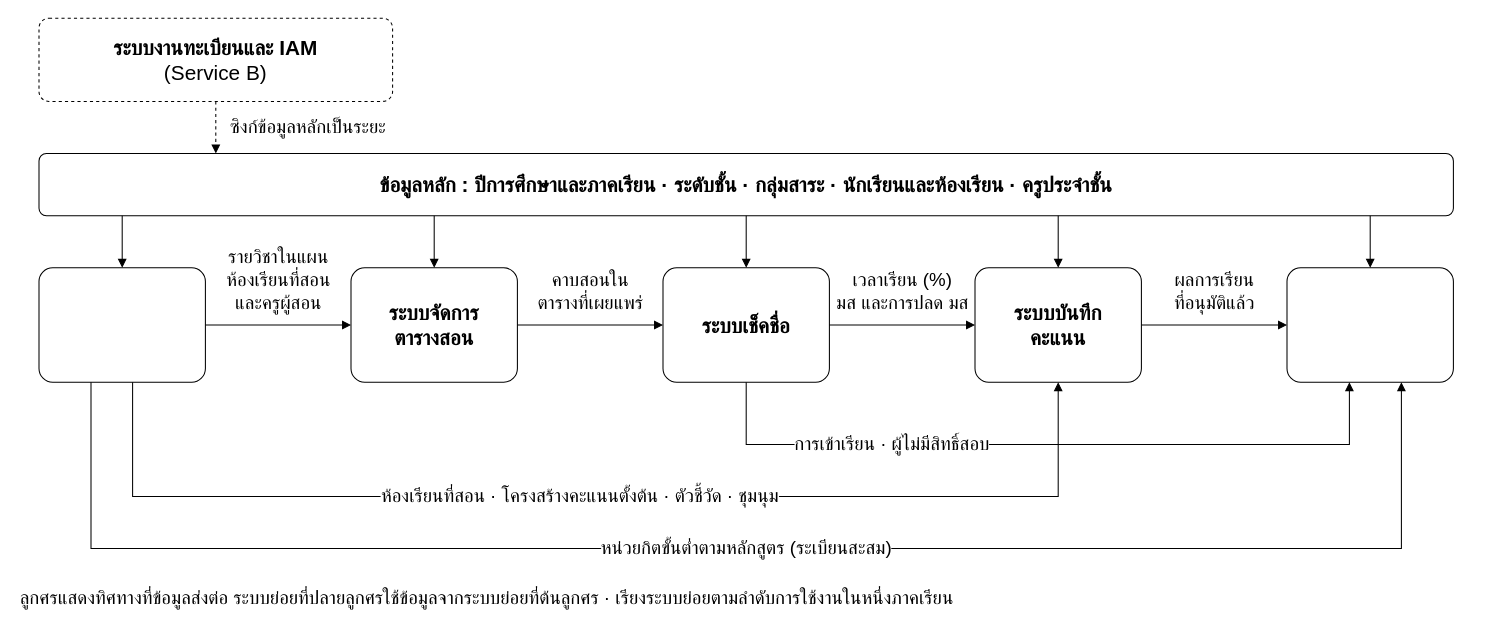
Image size: 1491x630. Some labels were removed from this diagram. Each missing label, with the centre of its shape:
ระบบจัดการ รายวิชาและหลักสูตร: [121,324]
ระบบรายงาน วิชาการ: [1369,324]
